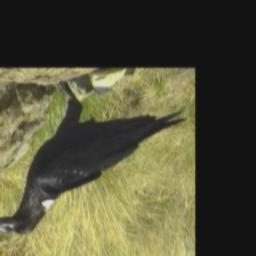Crow: (0, 78, 188, 237)
